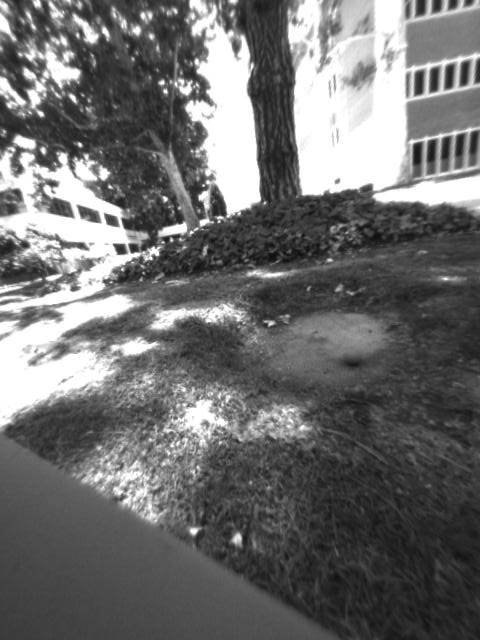dogtoy: (337, 343, 371, 374)
